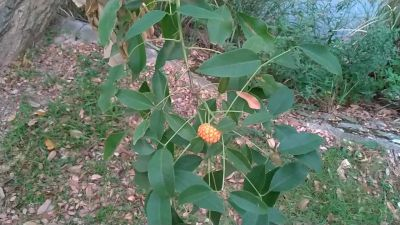eggs: (198, 118, 220, 143)
